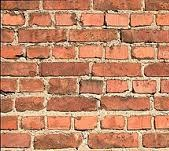brick: (87, 132, 139, 151), (34, 131, 83, 149), (101, 96, 151, 111), (40, 61, 89, 76), (92, 63, 142, 77), (47, 97, 96, 111), (69, 28, 119, 41), (19, 27, 65, 41), (122, 29, 169, 41), (1, 61, 37, 76), (1, 132, 30, 149), (141, 132, 169, 148), (43, 1, 90, 10), (92, 1, 143, 9), (46, 114, 71, 130), (49, 78, 77, 92), (21, 114, 45, 130), (101, 115, 125, 130), (127, 115, 152, 129), (1, 44, 24, 59), (73, 116, 96, 131), (1, 1, 39, 10), (19, 78, 45, 91), (107, 44, 129, 59), (78, 44, 103, 57), (144, 63, 169, 76), (16, 98, 43, 110), (1, 13, 25, 26), (81, 79, 103, 93), (27, 45, 50, 58), (53, 45, 75, 58), (132, 46, 155, 58), (132, 80, 155, 92), (106, 13, 127, 26), (131, 12, 151, 25), (54, 12, 75, 24), (108, 80, 129, 92), (1, 116, 19, 130), (83, 13, 103, 25), (30, 14, 51, 25), (155, 115, 169, 131), (1, 28, 15, 43), (1, 78, 17, 91), (146, 1, 168, 10), (155, 96, 169, 110), (1, 98, 13, 111), (157, 14, 169, 26), (158, 45, 169, 58), (160, 80, 169, 92)
